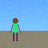person: (10, 18, 20, 41)
